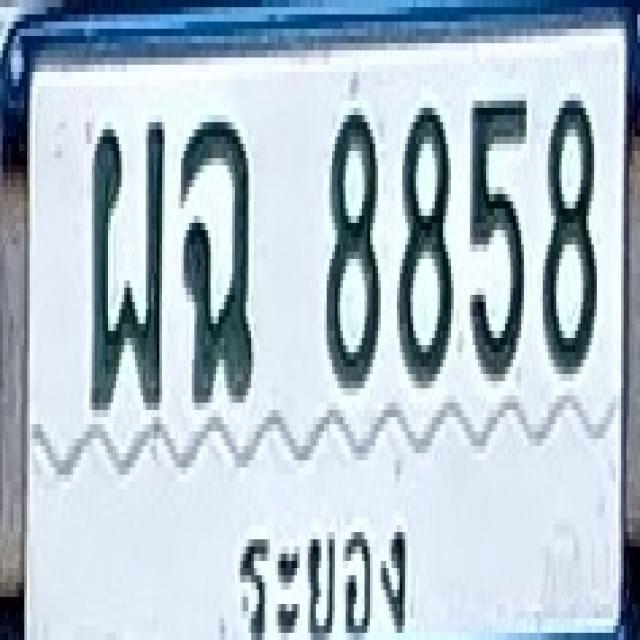5: (468, 94, 528, 381)
8: (542, 93, 596, 374), (326, 104, 380, 385), (397, 101, 451, 381)
A09: (180, 115, 252, 403)
A28: (89, 115, 165, 410)
RYG: (228, 491, 421, 640)
